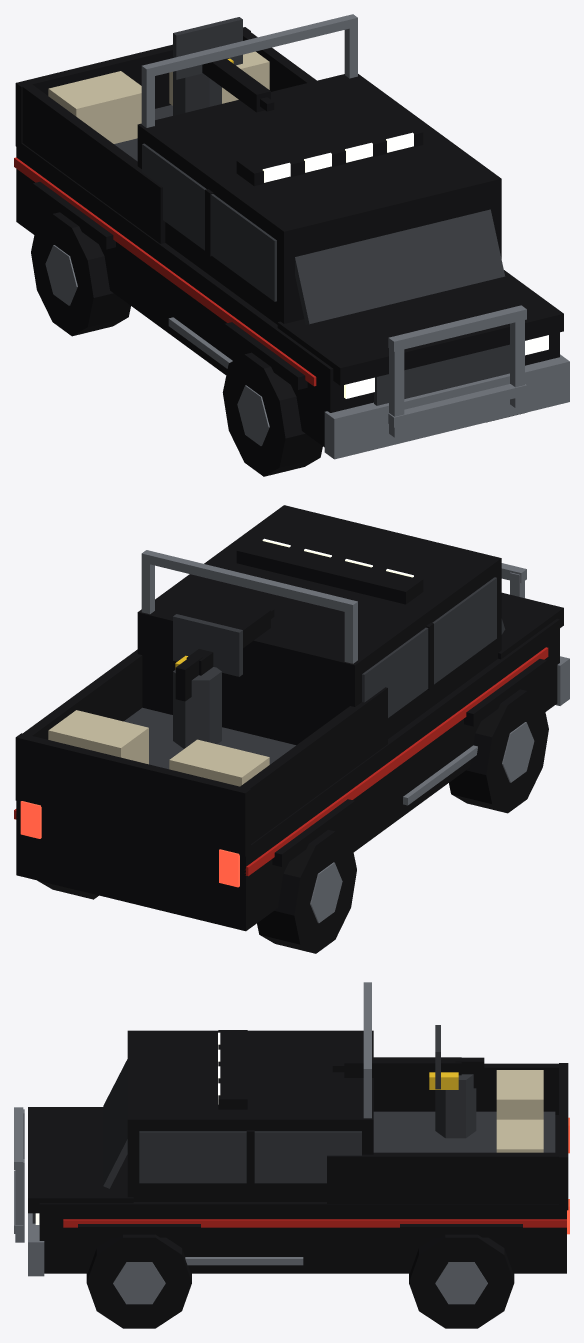
The model's file is Chuto sicario.fbx.
3 views of the same model, one above another, from view 1: azimuth 30°, elevation 25°; view 2: azimuth 150°, elevation 25°; view 3: azimuth 270°, elevation 25° (orthographic). The views are drawn at different scales.
Visible parts, largest first — view 1: Carroceria.002, Rueda 2.002, Rueda 1.002, Torreta.002; view 2: Carroceria.002, Torreta.002, Rueda 2.002, Rueda 1.002; view 3: Carroceria.002, Rueda 4.002, Rueda 3.002, Torreta.002.
Part boxes in pixels (x1=…): Carroceria.002: x1=14, y1=14, x2=569, y2=459; Rueda 2.002: x1=31, y1=212, x2=130, y2=336; Rueda 1.002: x1=222, y1=352, x2=322, y2=476; Torreta.002: x1=173, y1=17, x2=274, y2=115; Carroceria.002: x1=14, y1=505, x2=569, y2=931; Torreta.002: x1=173, y1=606, x2=274, y2=748; Rueda 2.002: x1=257, y1=829, x2=356, y2=953; Rueda 1.002: x1=449, y1=689, x2=548, y2=813; Carroceria.002: x1=14, y1=982, x2=569, y2=1276; Rueda 4.002: x1=409, y1=1234, x2=514, y2=1328; Rueda 3.002: x1=86, y1=1234, x2=191, y2=1328; Torreta.002: x1=332, y1=1025, x2=484, y2=1138.
Bounding box in the file's own units: 2.2 × 2.34 × 4.75.
